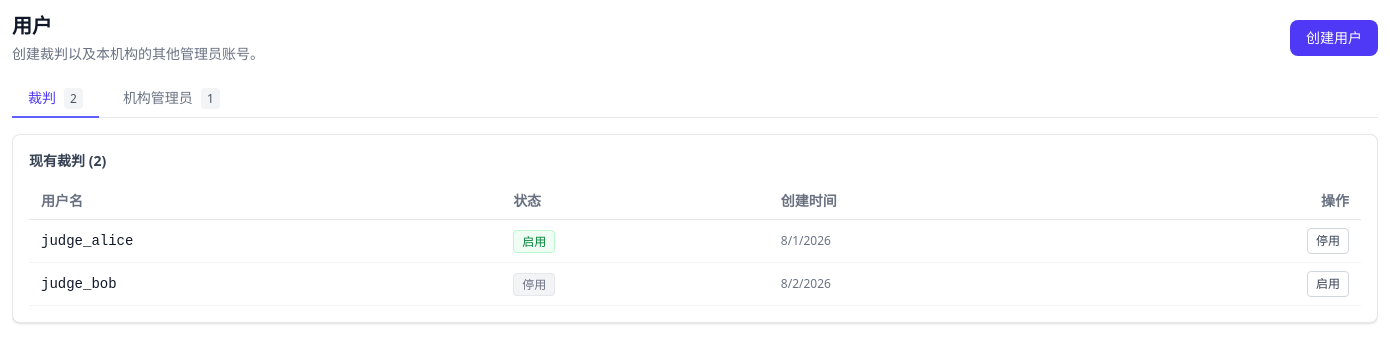
Test: DashboardJudgesPage (users page, ISSUE-012) › switches to the ORG_ADMIN tab and lists only admins
The image size is (1390, 341).
Check: the text "judge_alice" is shown, box [29,220,501,262]
// Click the admins tab. Its label is "机构管理员" in ZH.
Click the button "机构管理员1".
click(171, 99)  # box [107,80,236,118]
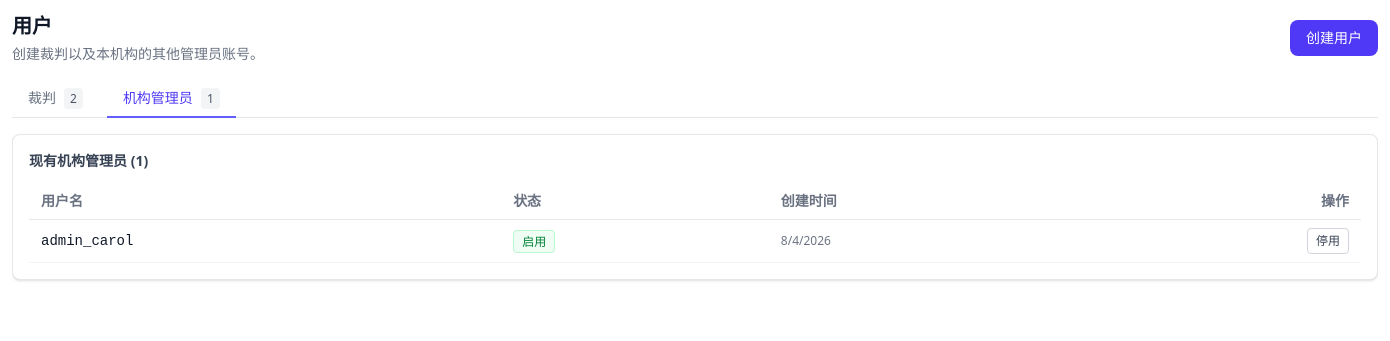
Check: the text "admin_carol" is shown, box [29,220,501,262]
Check: the text "judge_alice" is gone
Check: the text "judge_bob" is gone
